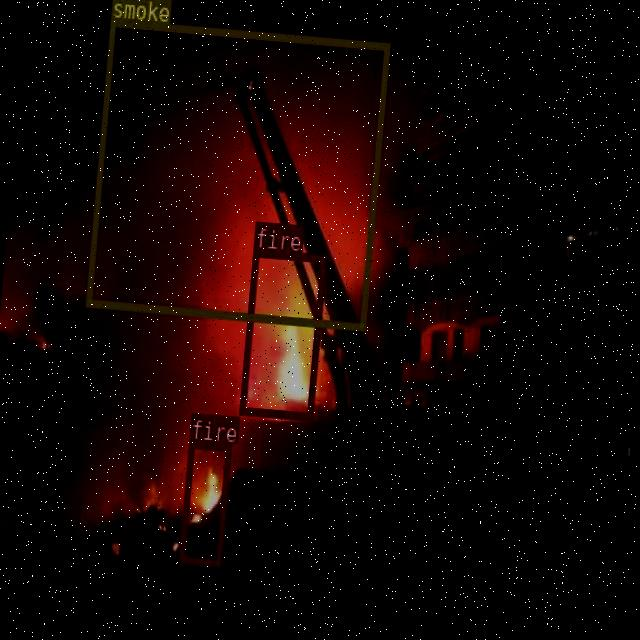fire: (238, 247, 326, 418), (177, 438, 230, 564)
smoke: (84, 17, 388, 328)
